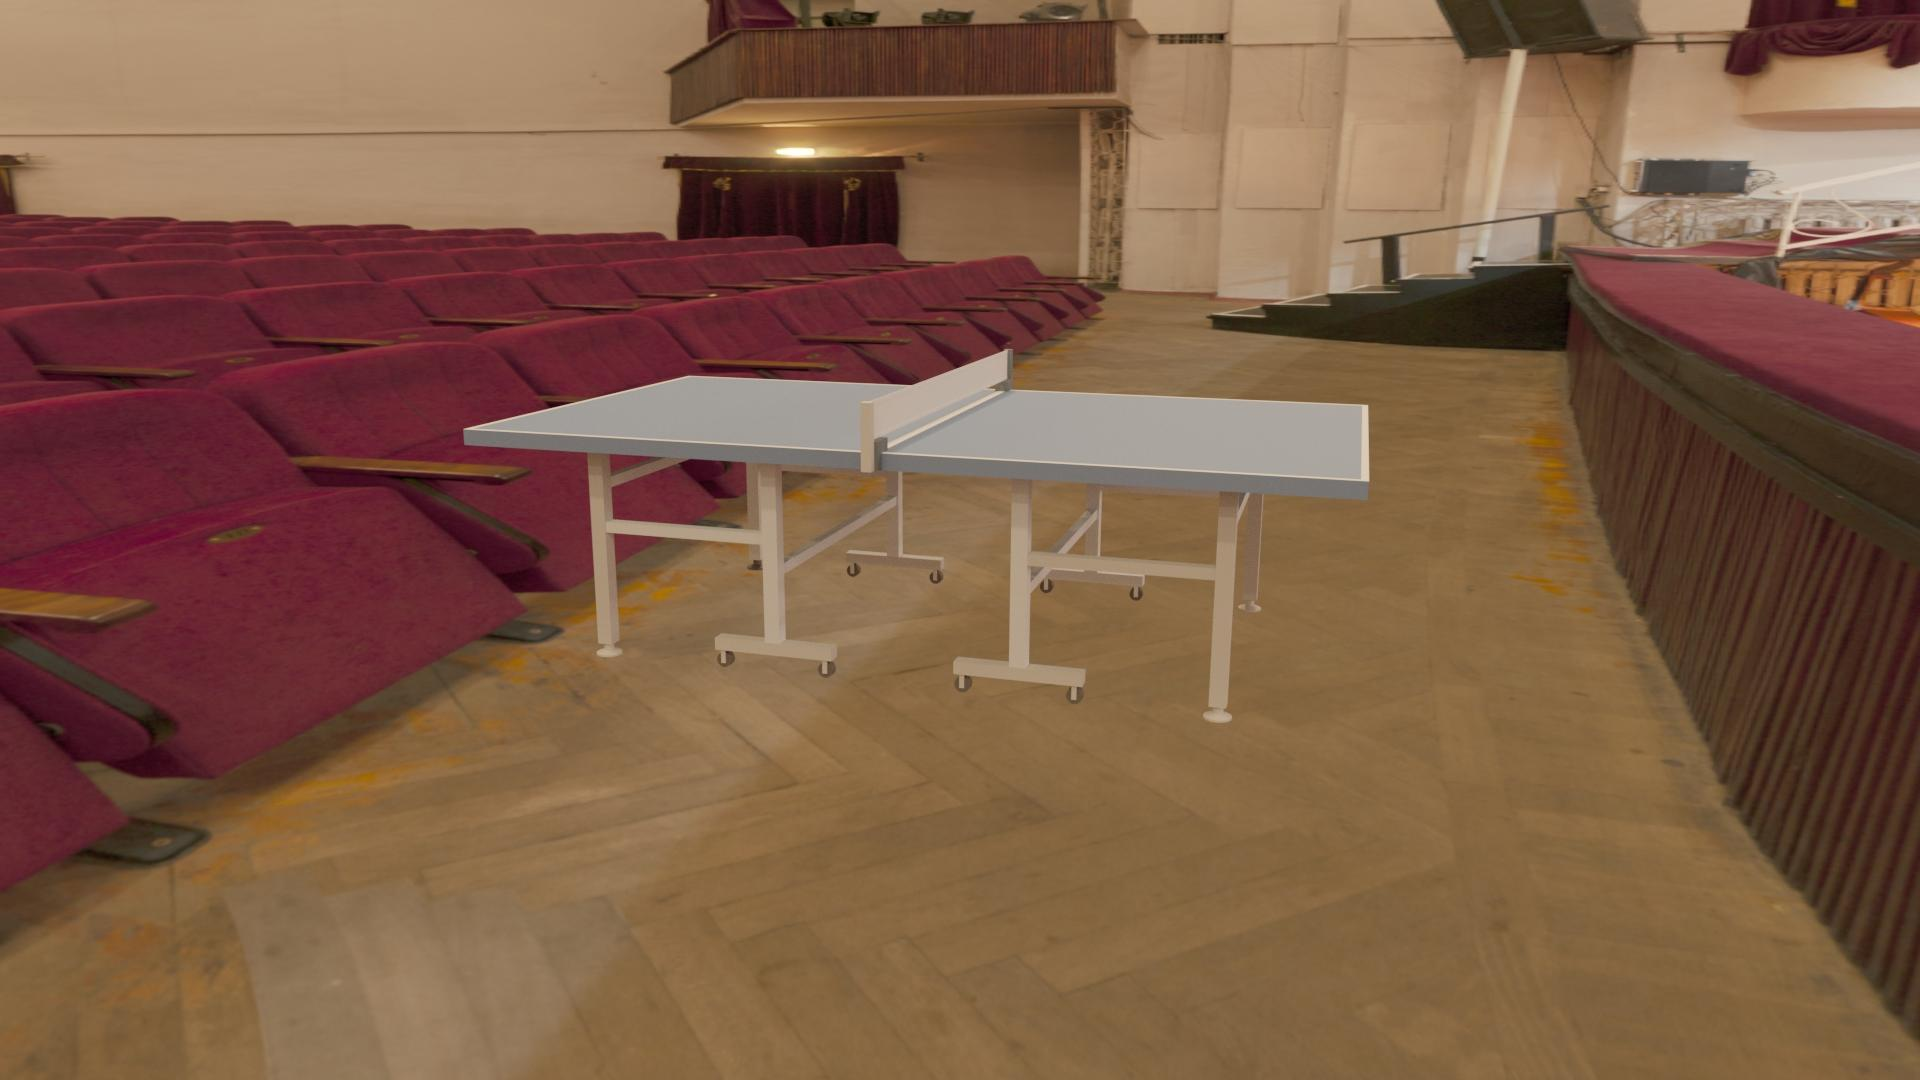table: (472, 377, 1362, 480)
